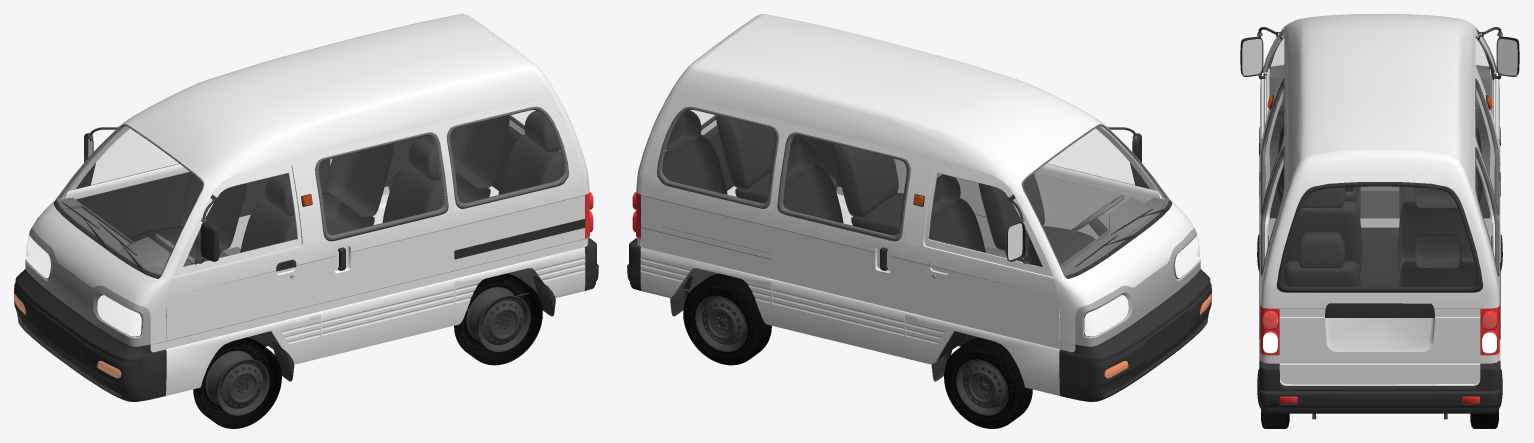
File: damas.glb
The picture shows the model from 3 angles, left to right: view 1: azimuth 30°, elevation 25°; view 2: azimuth 150°, elevation 25°; view 3: azimuth 270°, elevation 25°; orthographic projection. The views are drawn at different scales.
Parts seen in each view (by area): view 1: Object_13, Object_12, Object_17, Object_15, Object_19, Object_14, Object_11, Object_22, Object_27, Object_21, Object_25, Object_18 (+2 smaller); view 2: Object_13, Object_12, Object_17, Object_15, Object_19, Object_11, Object_22, Object_21, Object_18, Object_25, Object_23, Object_27 (+3 smaller); view 3: Object_13, Object_12, Object_17, Object_15, Object_19, Object_22, Object_14, Object_18, Object_2, Object_3, Object_23, Object_11 (+2 smaller).
Part boxes in pixels (left/top/right/bottom): Object_13: left=32, top=14, right=588, bottom=364; Object_12: left=63, top=14, right=589, bottom=395; Object_17: left=26, top=110, right=562, bottom=335; Object_15: left=130, top=110, right=563, bottom=264; Object_19: left=14, top=115, right=598, bottom=401; Object_14: left=76, top=125, right=563, bottom=238; Object_11: left=193, top=273, right=542, bottom=428; Object_22: left=29, top=106, right=568, bottom=336; Object_27: left=205, top=197, right=530, bottom=415; Object_21: left=25, top=228, right=293, bottom=346; Object_25: left=221, top=300, right=523, bottom=408; Object_18: left=43, top=197, right=240, bottom=336; Object_13: left=637, top=14, right=1193, bottom=364; Object_12: left=636, top=14, right=1162, bottom=395; Object_17: left=663, top=110, right=1199, bottom=335; Object_15: left=662, top=110, right=1095, bottom=264; Object_19: left=627, top=115, right=1211, bottom=401; Object_11: left=683, top=273, right=1032, bottom=428; Object_22: left=657, top=106, right=1196, bottom=336; Object_21: left=932, top=228, right=1200, bottom=346; Object_18: left=985, top=195, right=1182, bottom=336; Object_25: left=702, top=300, right=1004, bottom=408; Object_23: left=1084, top=237, right=1210, bottom=377; Object_27: left=695, top=197, right=1012, bottom=415; Object_13: left=1259, top=14, right=1500, bottom=385; Object_12: left=1259, top=29, right=1500, bottom=384; Object_17: left=1264, top=38, right=1495, bottom=286; Object_15: left=1277, top=126, right=1482, bottom=286; Object_19: left=1240, top=36, right=1519, bottom=413; Object_22: left=1257, top=32, right=1502, bottom=276; Object_14: left=1265, top=165, right=1494, bottom=286; Object_18: left=1269, top=67, right=1490, bottom=217; Object_2: left=1242, top=38, right=1517, bottom=75; Object_3: left=1260, top=305, right=1499, bottom=403; Object_23: left=1263, top=312, right=1496, bottom=352; Object_11: left=1261, top=409, right=1498, bottom=428.
Size of what is drawn, in the model's own units: 8.64 by 4.79 by 4.04.
15 materials, 1 textured.
